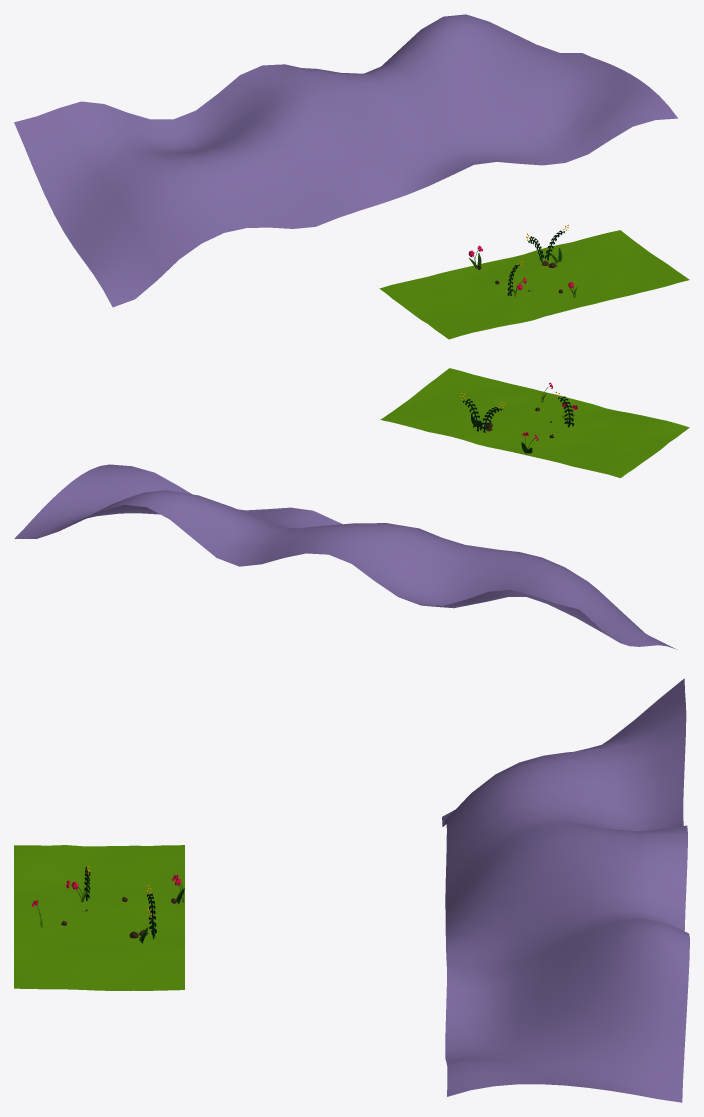
File: Garden.FBX
3 views of the same model, one above another, from view 1: azimuth 30°, elevation 25°; view 2: azimuth 150°, elevation 25°; view 3: azimuth 270°, elevation 25° (orthographic). The views are drawn at different scales.
Visible parts, largest first — view 1: Garden; view 2: Garden; view 3: Garden.
Part boxes in pixels (x1=…): Garden: x1=14, y1=14, x2=689, y2=339; Garden: x1=14, y1=368, x2=689, y2=649; Garden: x1=14, y1=678, x2=689, y2=1102.
Bounding box in the file's own units: 927 × 182 × 778.
